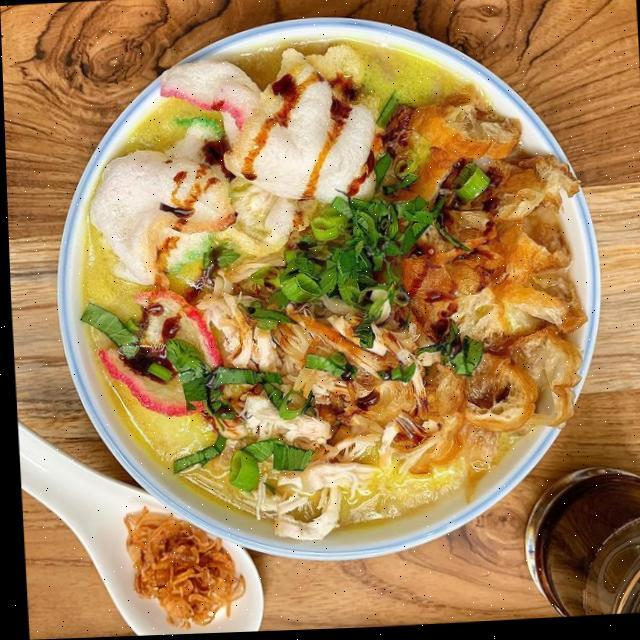bubur ayam: (68, 24, 590, 556)
mangkuk: (41, 0, 618, 574), (17, 406, 266, 640)
